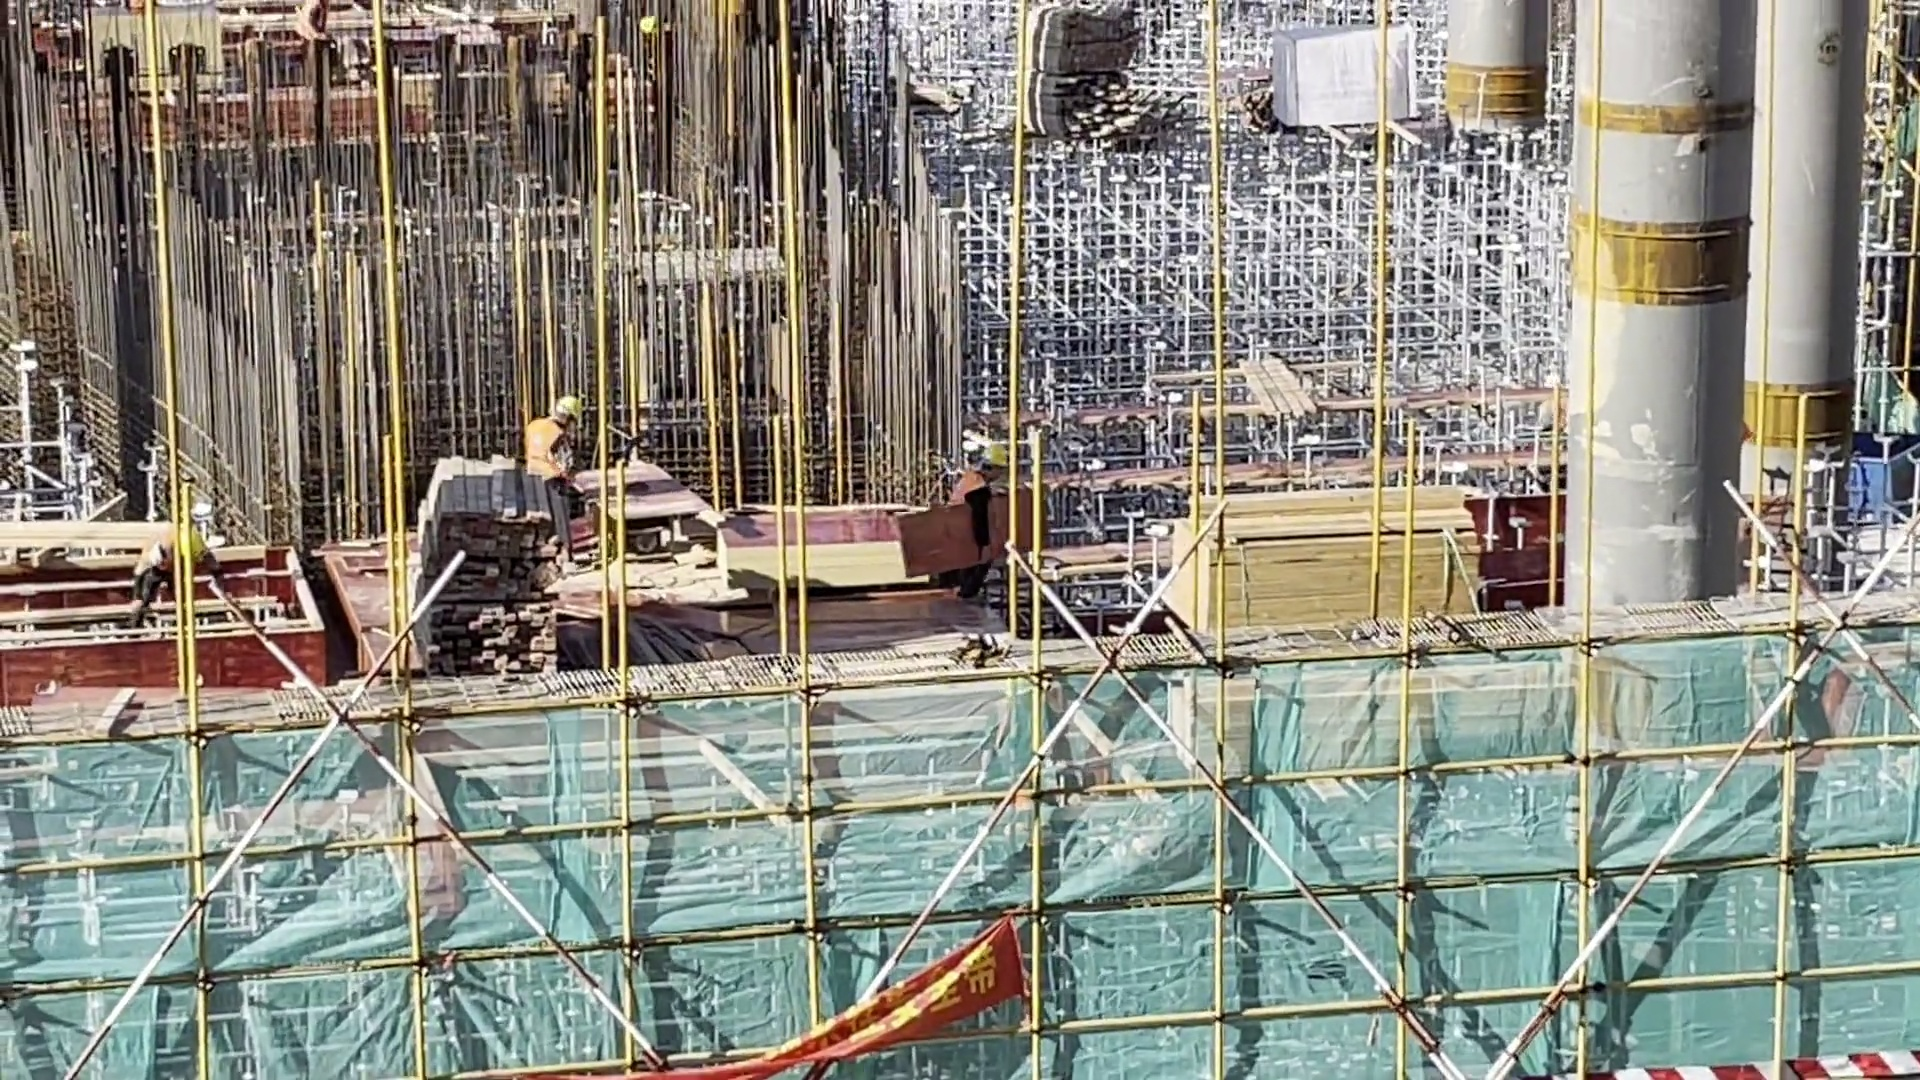helmet: (556, 390, 588, 422), (978, 439, 1007, 467)
person: (943, 416, 1010, 623), (506, 387, 591, 500)
slogan: (465, 888, 1032, 1080)
vest: (512, 415, 580, 483)
wood: (1155, 469, 1495, 657), (414, 441, 582, 680)
